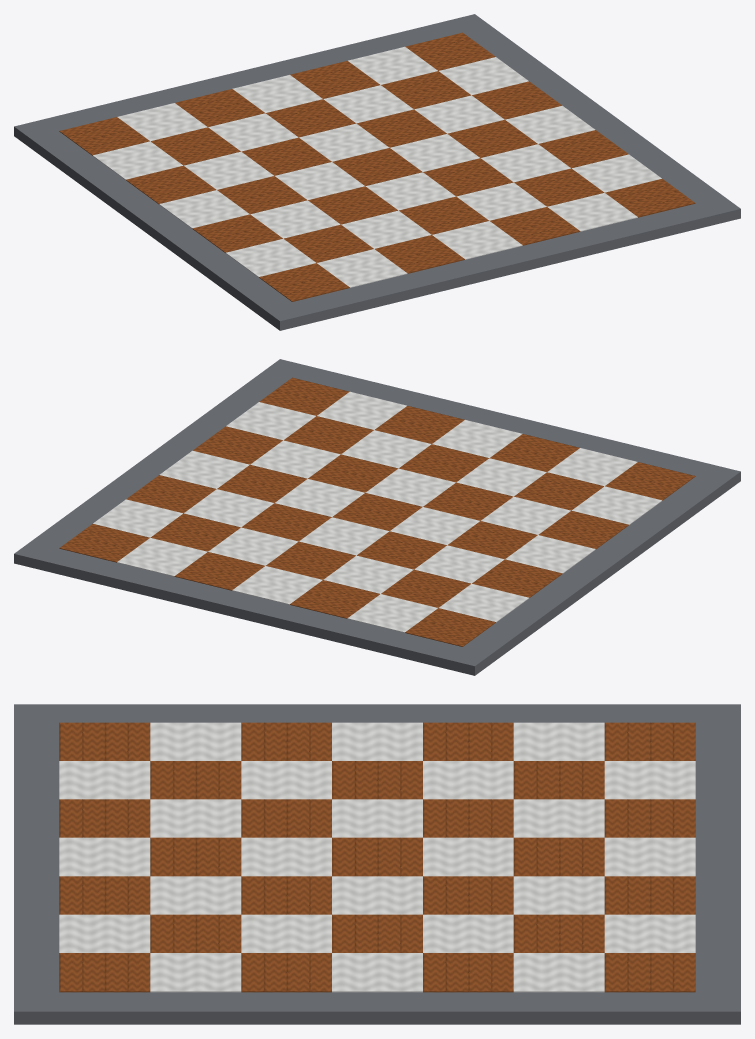
Rendered from cruise-ship-deck-and-lounge-cruise-ship-deck-and-loung-496d16b0__38407.glb.
The picture shows the model from 3 angles, top to bottom: view 1: azimuth 30°, elevation 25°; view 2: azimuth 150°, elevation 25°; view 3: azimuth 270°, elevation 25°; orthographic projection. The views are drawn at different scales.
Parts seen in each view (by area): view 1: cruise-ship-deck-and-lounge-dance-floor-plate; view 2: cruise-ship-deck-and-lounge-dance-floor-plate; view 3: cruise-ship-deck-and-lounge-dance-floor-plate.
Part boxes in pixels (x1,y1,x2,y2): cruise-ship-deck-and-lounge-dance-floor-plate: (14,14,740,330); cruise-ship-deck-and-lounge-dance-floor-plate: (14,359,740,675); cruise-ship-deck-and-lounge-dance-floor-plate: (14,704,740,1024).
Size of the model in its own units: 6 by 0.1281 by 6.
3 materials, 2 textured.
